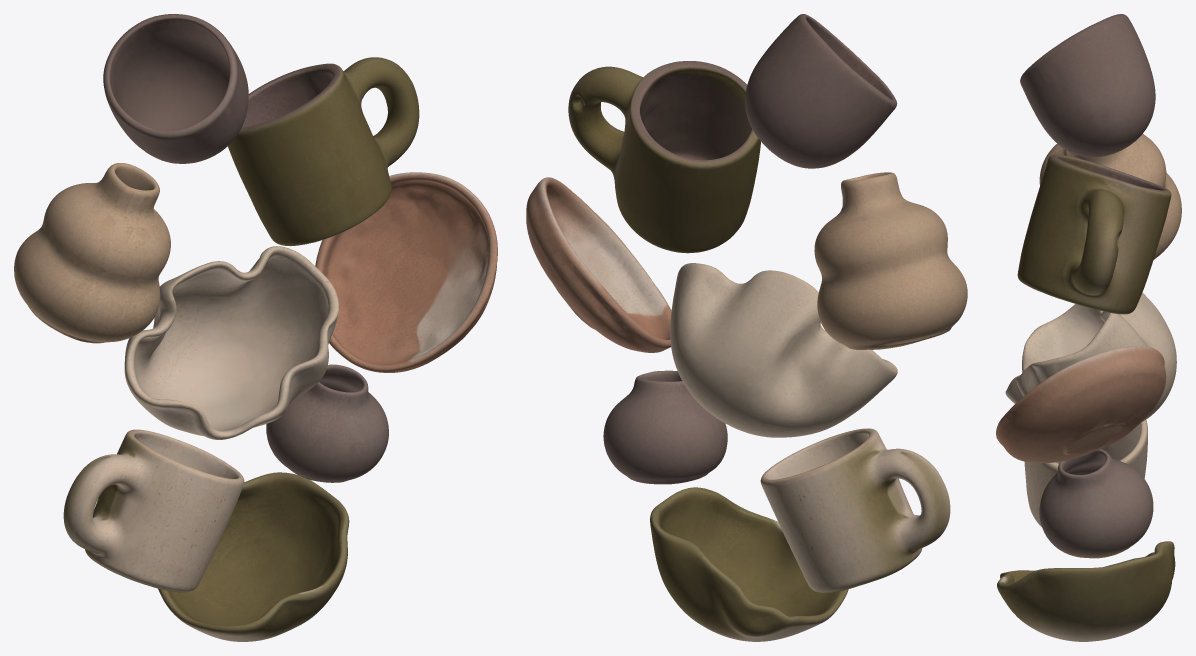
Rendered from ceramics.glb.
3 views of the same model, side by side, from view 1: azimuth 30°, elevation 25°; view 2: azimuth 150°, elevation 25°; view 3: azimuth 270°, elevation 25° (orthographic). The views are drawn at different scales.
Size of the model in its own units: 1.4 by 1.9 by 0.5453.
Materials: 1 (1 with a texture image).
